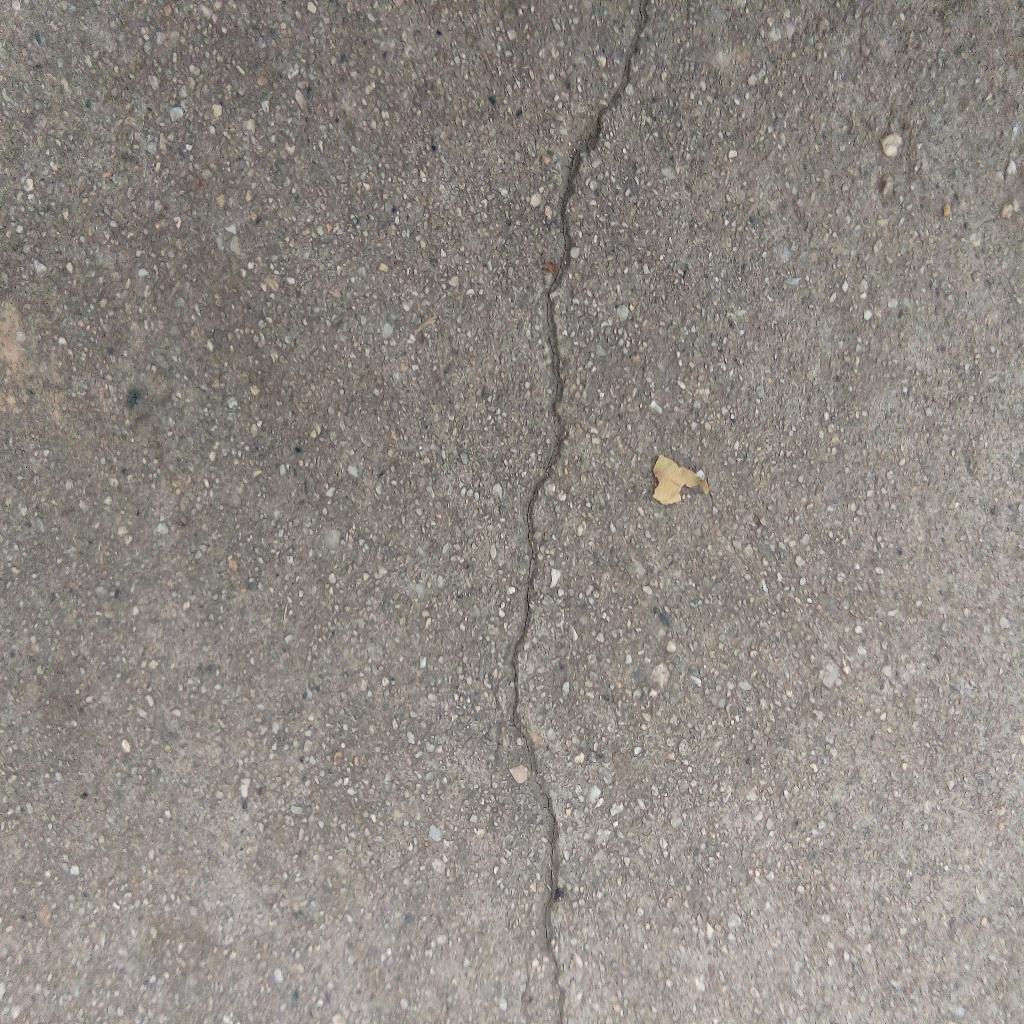Crack: (509, 1, 649, 1024)
